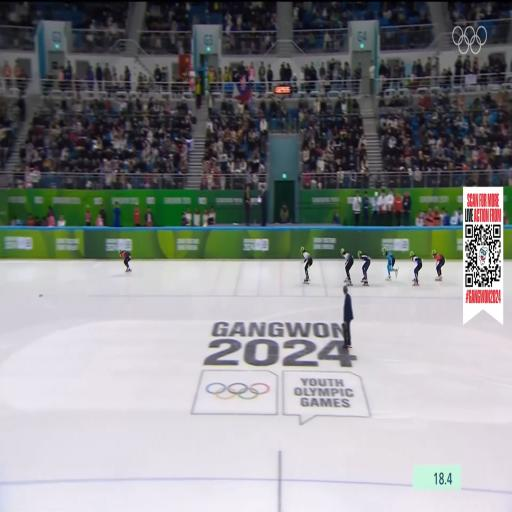Skater: (383, 248, 398, 280), (118, 246, 134, 274), (341, 248, 353, 285), (358, 251, 370, 285), (301, 247, 312, 283), (410, 252, 422, 285), (432, 251, 445, 281)
